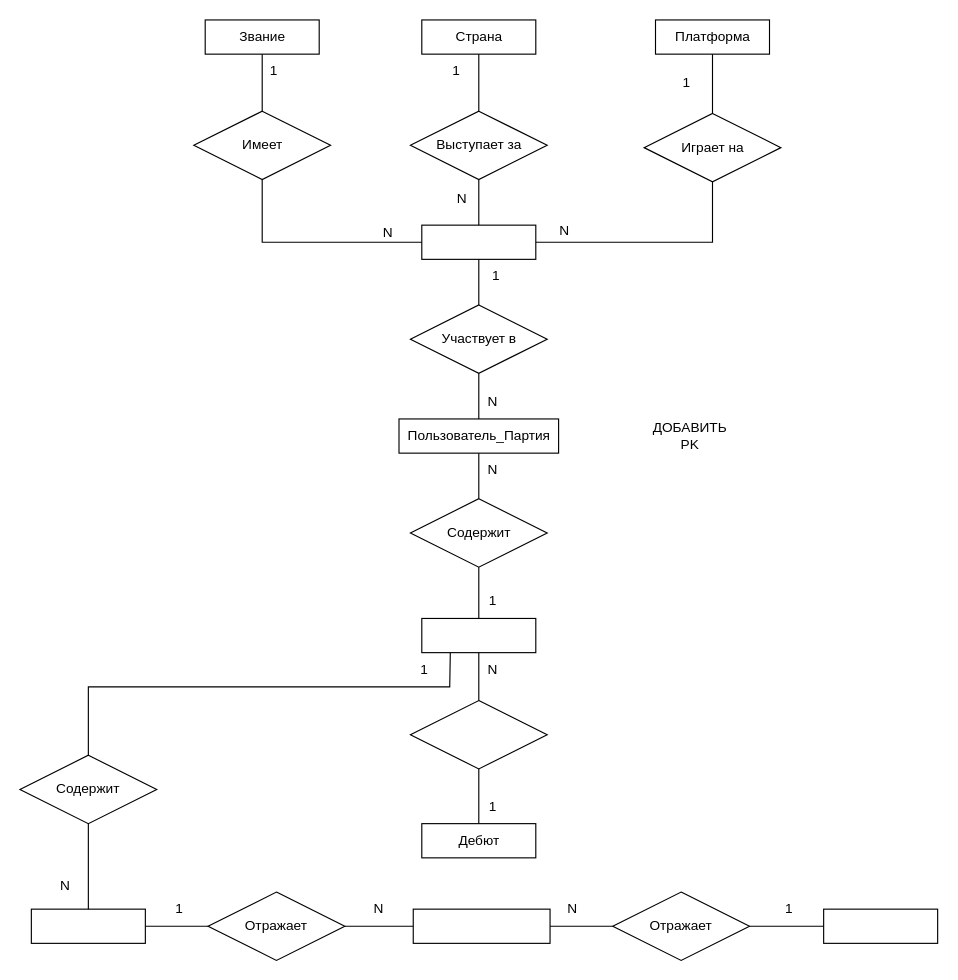
Some shapes in this 958 by 980 pixel diagram are drawn without their labels. The shapes that lost their labels are listed below. From the top down, each one's centre as x and y in pixels, then its label:
the point at 478,241: Пользователь
the point at 478,635: Партия
the point at 478,734: Разыгрывается в
the point at 87,925: Ход
the point at 481,925: Задействованный приём
the point at 880,925: Приём
